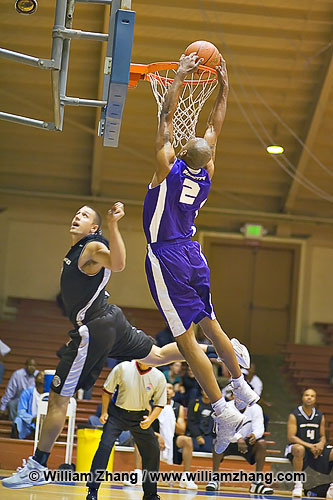basketball: (183, 41, 220, 82)
